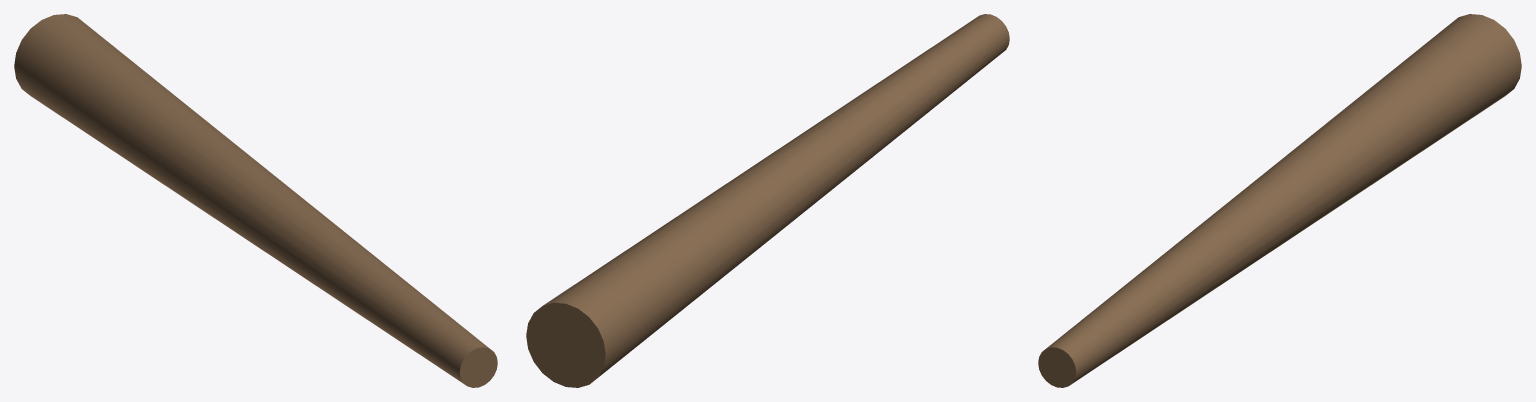
File: Baton.fbx
The picture shows the model from 3 angles, left to right: view 1: azimuth 30°, elevation 25°; view 2: azimuth 150°, elevation 25°; view 3: azimuth 330°, elevation 25°; orthographic projection.
Parts seen in each view (by area): view 1: Body.021; view 2: Body.021; view 3: Body.021.
Boxes of the visible parts, box(x1,y1,x2,y2) form: Body.021: box(14, 14, 497, 387); Body.021: box(526, 14, 1009, 387); Body.021: box(1038, 14, 1521, 387).
Bounding box in the file's own units: 0.092 × 0.092 × 0.85.
